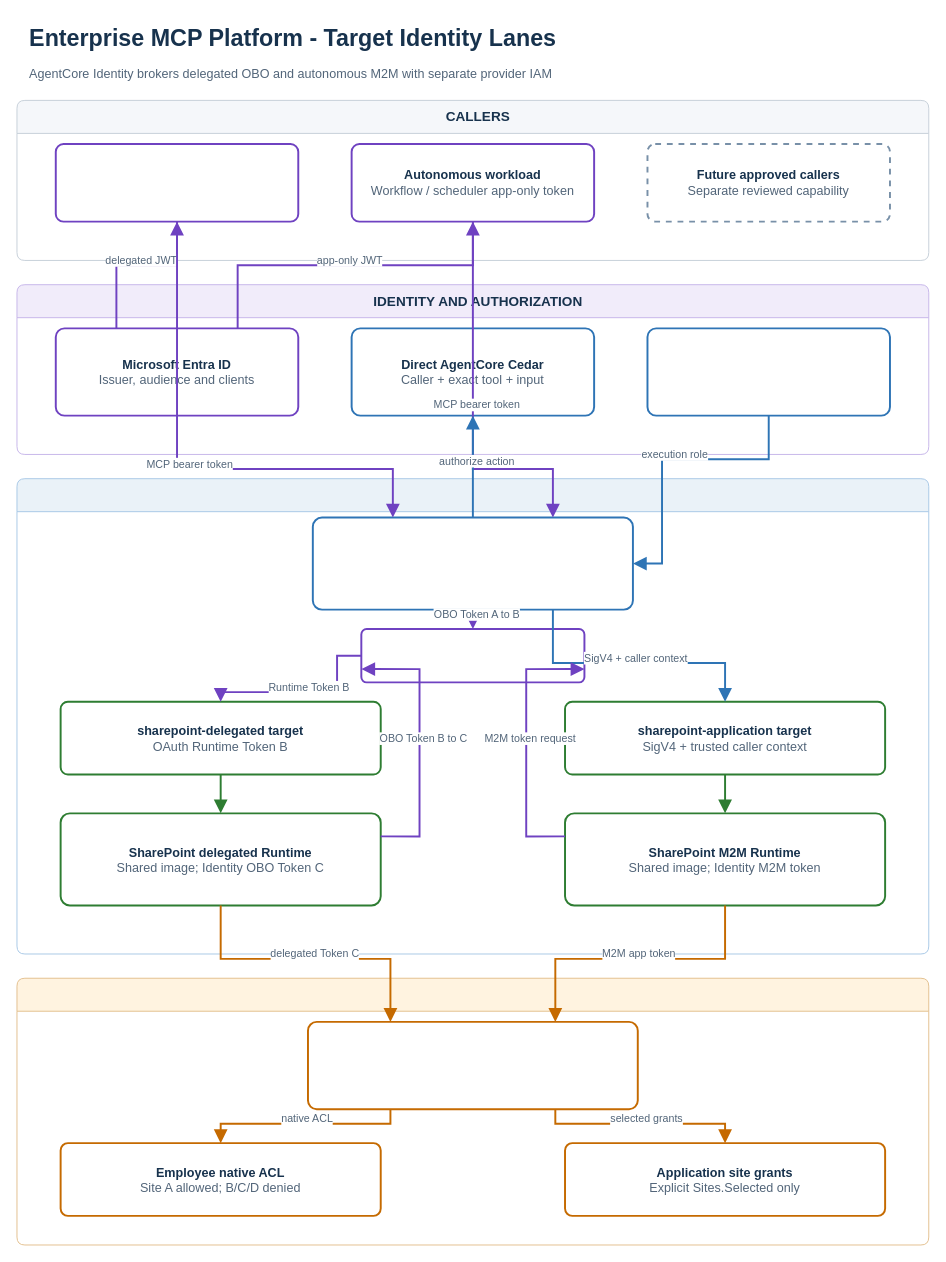
Some shapes in this 946 by 1262 pixel diagram are drawn without their labels. The shapes that lost their labels are listed below. From the top down, each one's box as (x1, y1, x2, y2) in pixels, then its label:
(54, 143, 299, 222): Employee via AI app / client Delegated Enterprise MCP token
(646, 327, 890, 416): AWS IAM Gateway and Runtime roles
(311, 516, 633, 610): One AgentCore Gateway MCP + CUSTOM_JWT + semantic search
(360, 628, 585, 683): AgentCore Identity OBO + M2M OAuth broker
(16, 478, 929, 954): AWS / AGENTCORE EXECUTION LANES
(307, 1020, 638, 1110): Microsoft Graph / SharePoint Downstream system of record
(16, 977, 929, 1245): SHAREPOINT AUTHORIZATION
